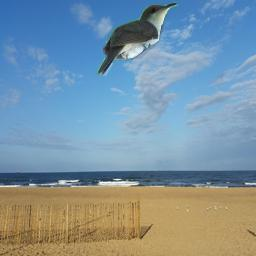Cuckoo: (96, 2, 179, 77)
